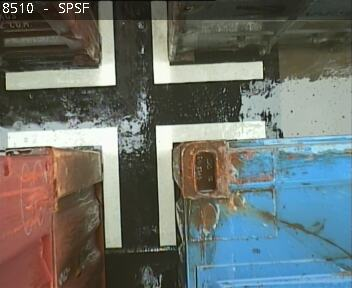groundmarker_1: (8, 121, 266, 246), (6, 1, 262, 91)
